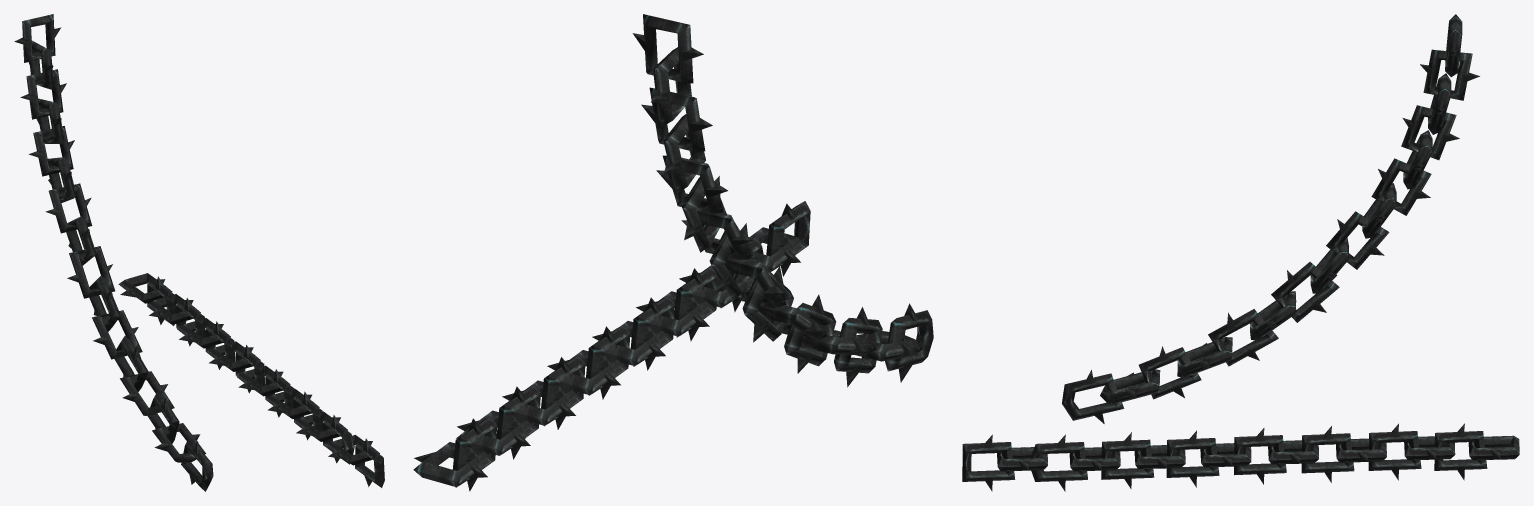
The model's file is f_1103_lianzi.FBX.
3 views of the same model, side by side, from view 1: azimuth 30°, elevation 25°; view 2: azimuth 150°, elevation 25°; view 3: azimuth 270°, elevation 25° (orthographic). The views are drawn at different scales.
Parts seen in each view (by area): view 1: f_1105_floor09, f_1105_floor08; view 2: f_1105_floor09, f_1105_floor08; view 3: f_1105_floor09, f_1105_floor08.
Part boxes in pixels (left/top/right/bottom): f_1105_floor09: left=14, top=14, right=213, bottom=491; f_1105_floor08: left=118, top=273, right=384, bottom=487; f_1105_floor09: left=632, top=14, right=933, bottom=387; f_1105_floor08: left=413, top=201, right=810, bottom=491; f_1105_floor09: left=1062, top=14, right=1479, bottom=423; f_1105_floor08: left=962, top=423, right=1519, bottom=491.
Bounding box in the file's own units: 724 × 1418 × 1780.
Materials: 1 (1 with a texture image).
